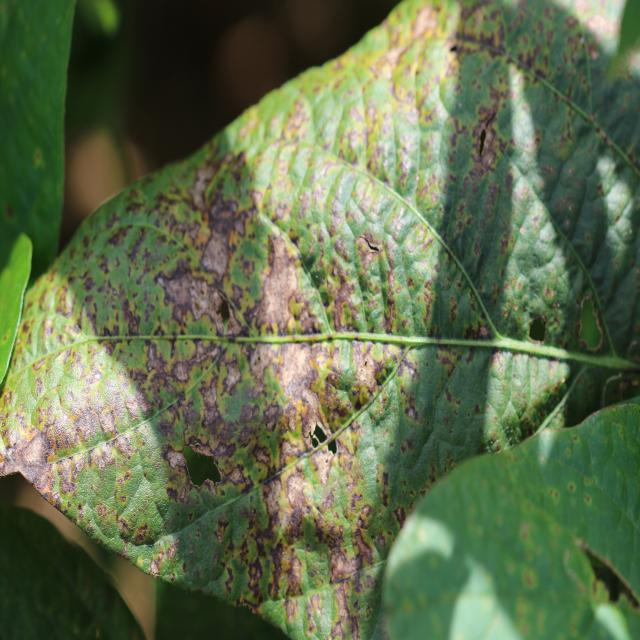Bacterial_Blight: (454, 8, 637, 213), (272, 472, 354, 580), (246, 223, 311, 332), (156, 247, 230, 333), (169, 412, 227, 490), (1, 418, 56, 484), (454, 1, 509, 58), (468, 178, 507, 249), (349, 230, 396, 278), (332, 275, 366, 332), (113, 337, 157, 381), (205, 198, 239, 250), (147, 536, 184, 581), (347, 350, 381, 398), (72, 406, 104, 446), (474, 118, 500, 166), (409, 5, 440, 41), (268, 540, 288, 590), (307, 420, 332, 457), (120, 298, 142, 334), (246, 554, 265, 591), (463, 316, 491, 341), (222, 359, 243, 392), (200, 381, 220, 413), (527, 316, 547, 343), (238, 401, 260, 425), (284, 402, 300, 432), (115, 433, 133, 457), (154, 418, 174, 438), (125, 396, 141, 418), (523, 568, 537, 588), (394, 506, 406, 527), (180, 427, 190, 450), (118, 518, 130, 537), (520, 522, 532, 541), (485, 438, 500, 453), (449, 302, 458, 324), (166, 486, 178, 502), (429, 323, 441, 339), (584, 494, 592, 505), (568, 482, 576, 493), (156, 276, 164, 286), (153, 568, 160, 578), (137, 557, 144, 566), (513, 302, 519, 311), (553, 491, 559, 499), (364, 360, 368, 367)
Soybean: (0, 0, 640, 640)
